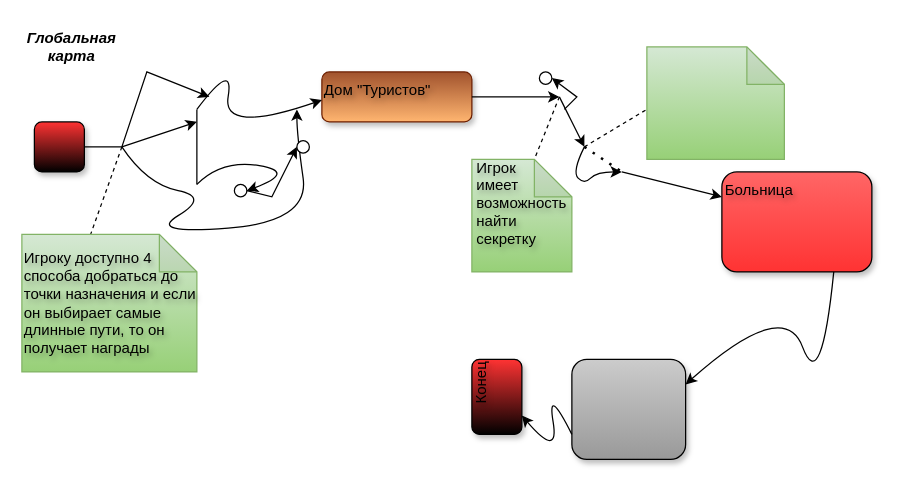
This 901x490 diagram has some shape labels left out. Each missing label, with the centre of its shape:
Здесь игрок впервые встречается с монстром и знакомится с механикой "страх": point (715, 102)
Кладбище: point (629, 410)
Спавн: point (60, 148)
